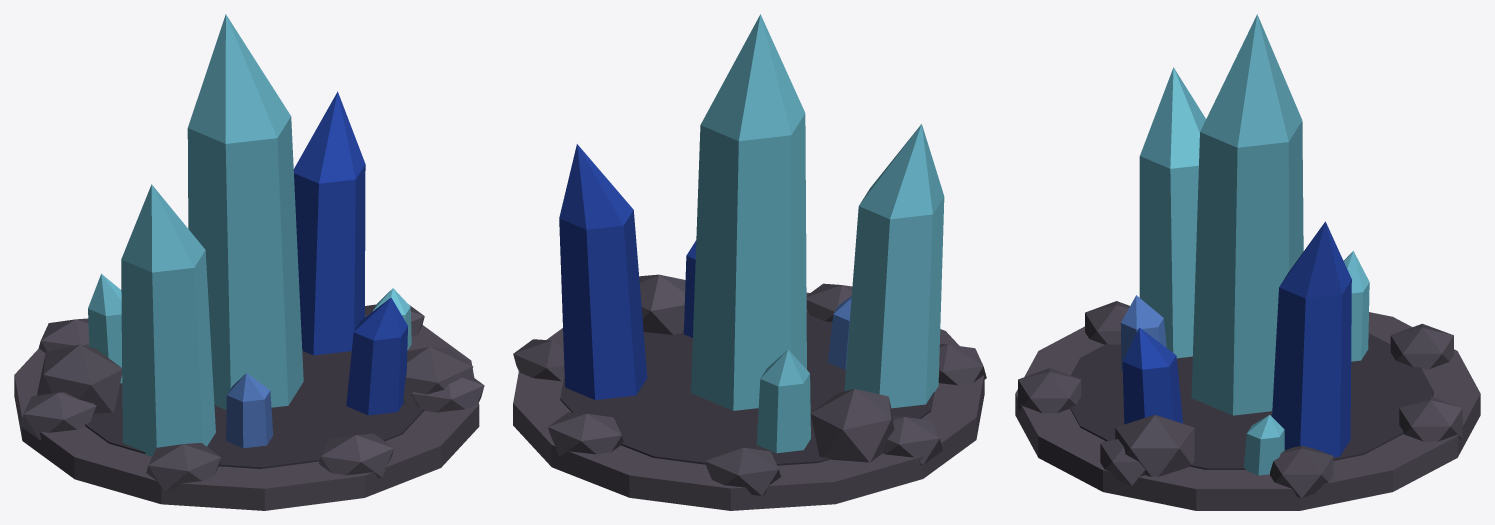
Rendered from Decor_HeroHQ_Crystal.fbx.
The picture shows the model from 3 angles, left to right: view 1: azimuth 30°, elevation 25°; view 2: azimuth 150°, elevation 25°; view 3: azimuth 270°, elevation 25°; orthographic projection. The views are drawn at different scales.
Parts seen in each view (by area): view 1: Crystal_Body; view 2: Crystal_Body; view 3: Crystal_Body.
Part boxes in pixels (bbox=[...]): Crystal_Body: bbox=[14, 14, 484, 510]; Crystal_Body: bbox=[513, 14, 986, 510]; Crystal_Body: bbox=[1015, 14, 1480, 510].
Bounding box in the file's own units: 15 × 14 × 15.
